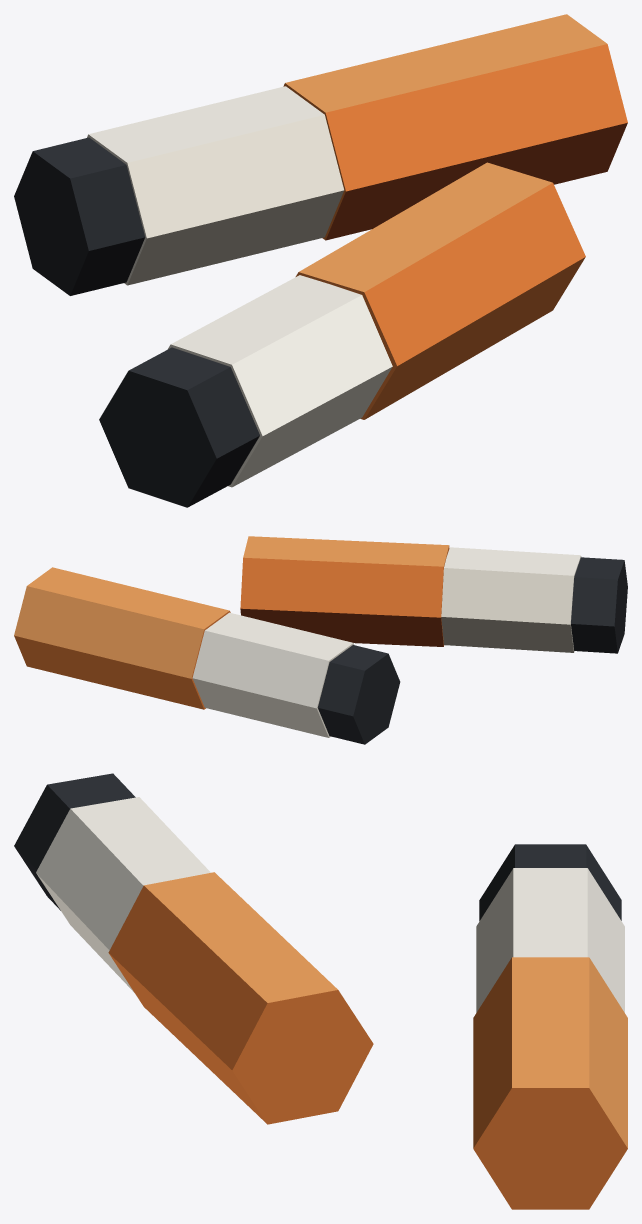
Rendered from Item_cig_butt.fbx.
3 renders of one model, top to bottom at view 1: azimuth 30°, elevation 25°; view 2: azimuth 150°, elevation 25°; view 3: azimuth 270°, elevation 25°, orthographic. The views are drawn at different scales.
Parts seen in each view (by area): view 1: Filter, Paper, Ash; view 2: Filter, Paper, Ash; view 3: Filter, Paper, Ash.
Boxes of the visible parts, <box> form: Filter: <box>283,14,627,419</box>; Paper: <box>87,86,392,487</box>; Ash: <box>14,137,259,507</box>; Filter: <box>14,536,449,709</box>; Paper: <box>192,547,581,737</box>; Ash: <box>317,557,627,744</box>; Filter: <box>108,872,627,1209</box>; Paper: <box>36,797,624,1012</box>; Ash: <box>14,773,621,920</box>.
Bounding box in the file's own units: 0.0671 × 0.0117 × 0.0536.
